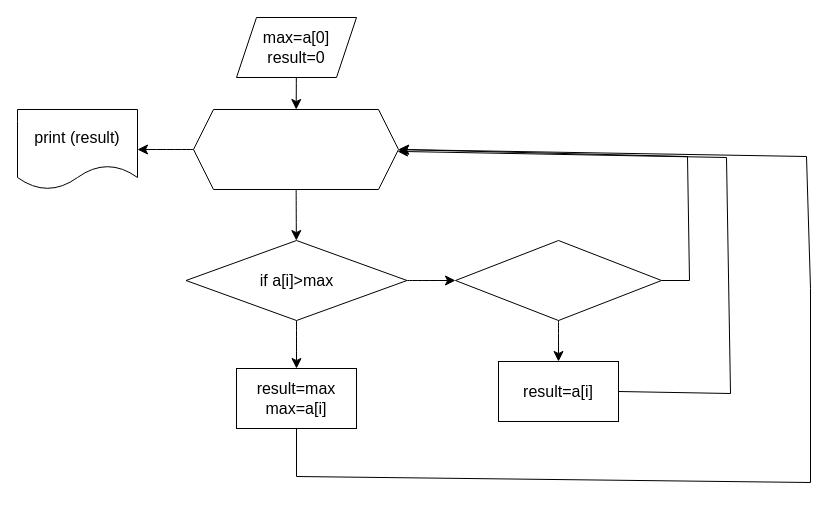
Image size: 838x510. Some labels were removed from this diagram. Each missing label, with the centre of its shape:
"for i=1;j<size;i++" belongs at point 295,149.
"if a[i]>result" belongs at point 558,280.
